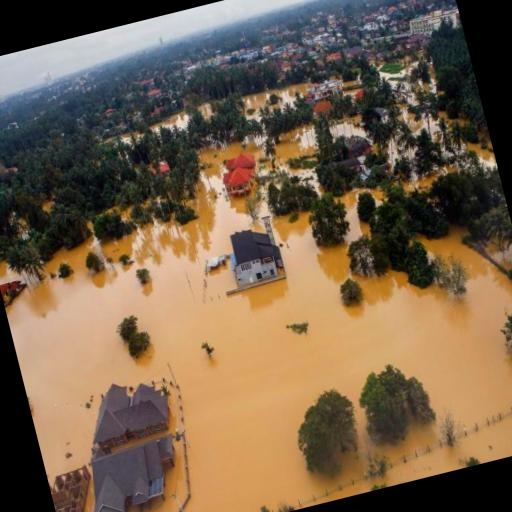flood: (6, 145, 512, 512), (198, 137, 271, 197), (275, 123, 323, 194), (242, 83, 312, 120), (404, 165, 457, 191), (343, 192, 368, 240), (468, 139, 498, 167), (400, 105, 427, 134), (331, 115, 366, 137), (150, 111, 188, 131), (84, 467, 93, 512), (343, 79, 361, 97), (422, 71, 437, 91), (227, 196, 246, 211), (0, 266, 16, 283), (187, 193, 201, 212), (197, 103, 211, 118), (430, 119, 439, 136), (390, 142, 398, 159), (374, 189, 383, 203), (120, 133, 130, 142), (381, 72, 394, 78), (390, 81, 401, 85)
house: (79, 368, 182, 462), (224, 220, 288, 294), (72, 462, 137, 512), (220, 152, 263, 206), (0, 275, 32, 311), (406, 6, 444, 36), (306, 76, 346, 104)
